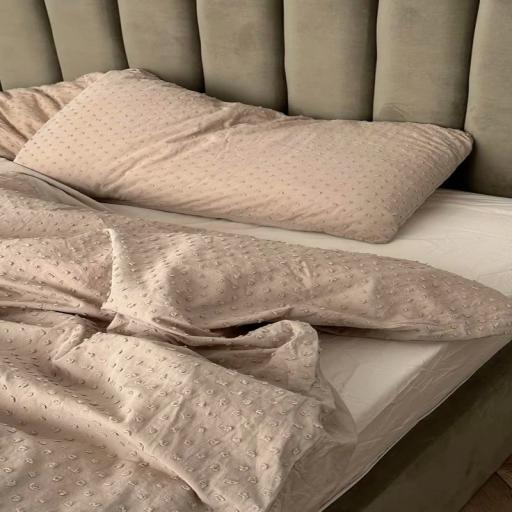person: (0, 0, 511, 294)
